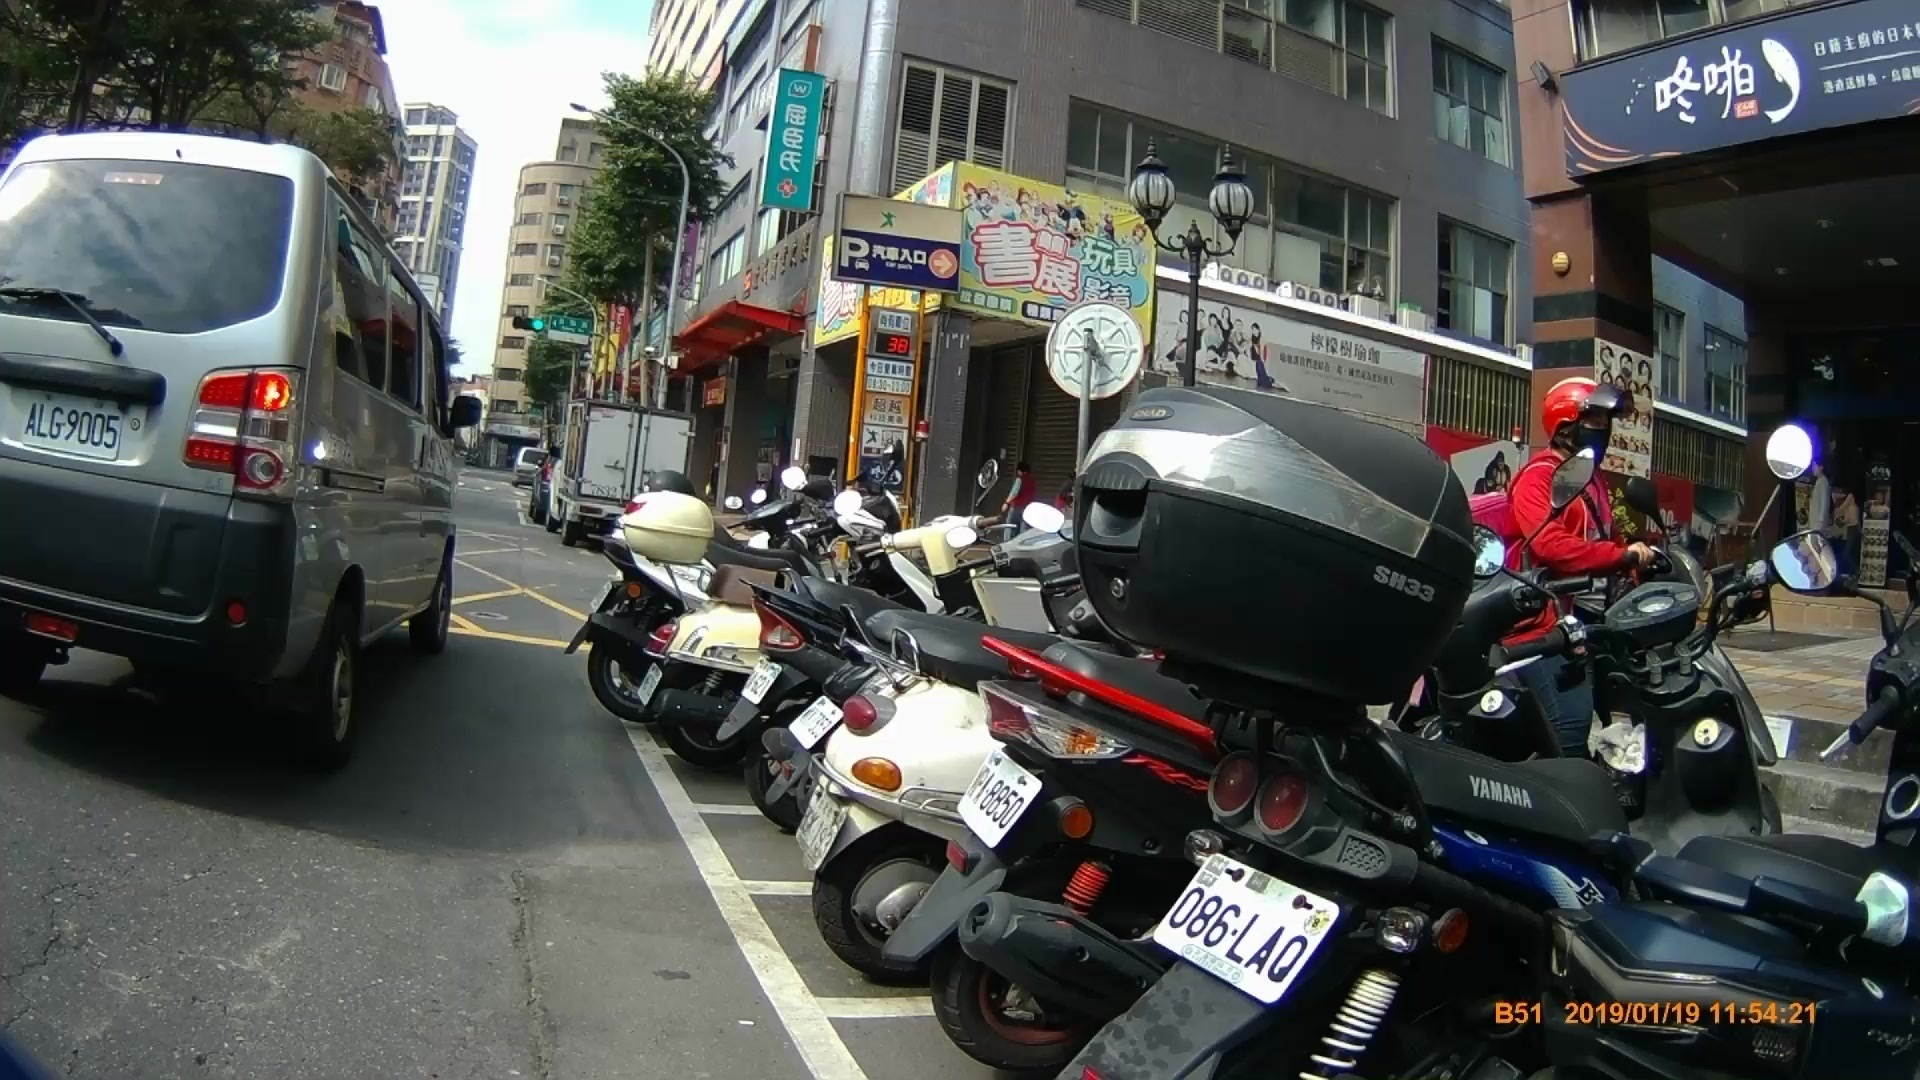License_plate: (1157, 840, 1341, 1008), (951, 748, 1044, 848), (20, 388, 129, 467), (796, 782, 851, 870), (786, 691, 844, 753), (736, 654, 784, 702)
